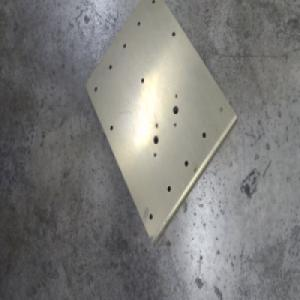MetalSheet: (83, 0, 239, 249)
